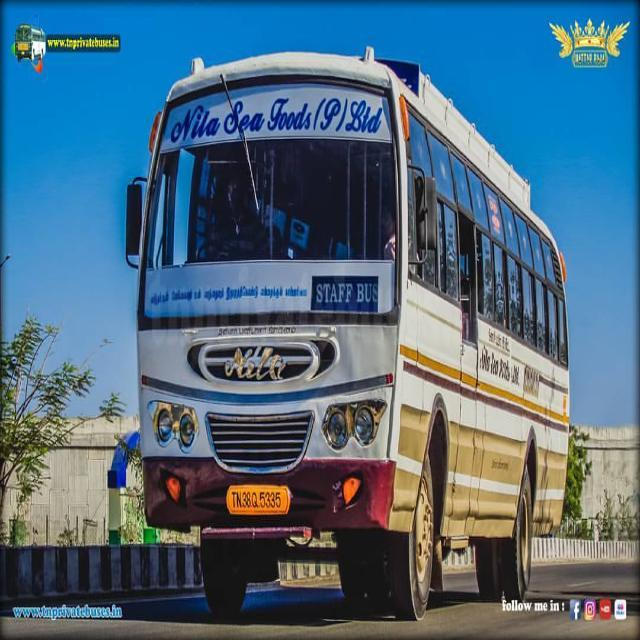Bus: (122, 44, 570, 623)
